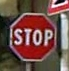stop: (8, 11, 56, 61)
